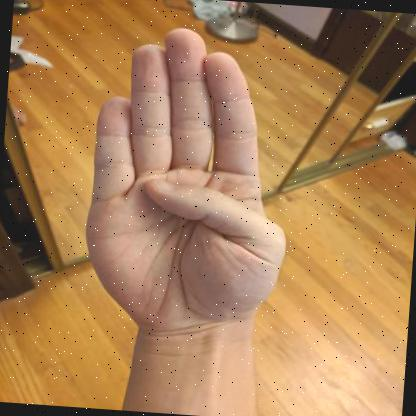B: (86, 28, 286, 351)
